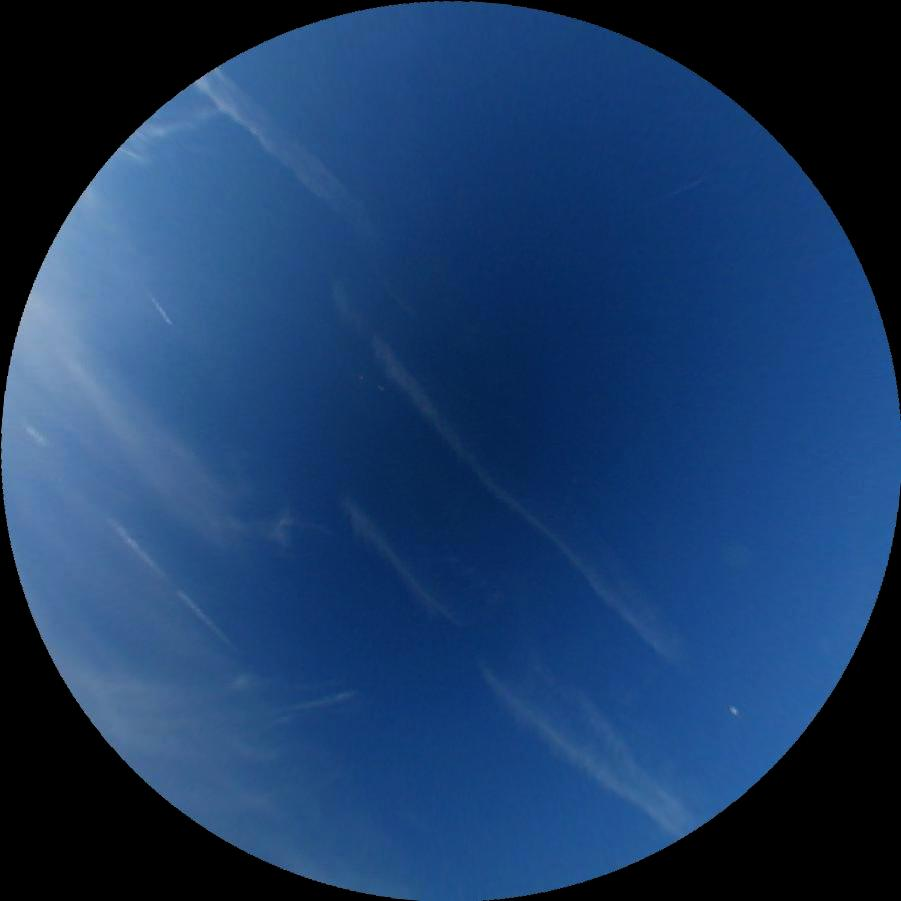contrail veryold: (356, 333, 673, 671), (471, 629, 713, 862), (189, 60, 390, 247), (330, 494, 467, 642)
contrail young: (658, 174, 706, 201), (138, 289, 172, 325)
